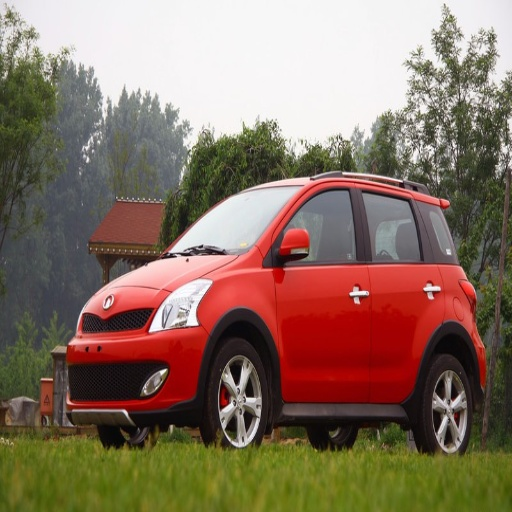back_left_door: (357, 184, 450, 400)
front_bumper: (66, 286, 210, 423)
front_glass: (166, 190, 291, 257)
front_left_door: (269, 182, 370, 399)
